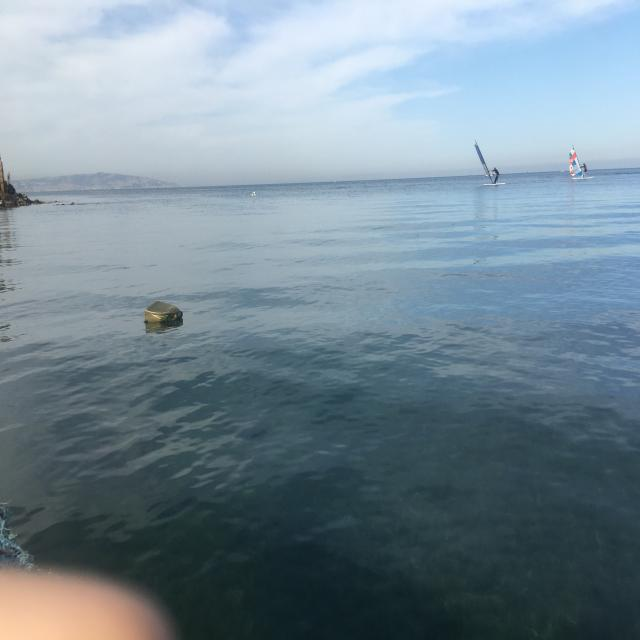Plastic: (143, 299, 184, 326)
